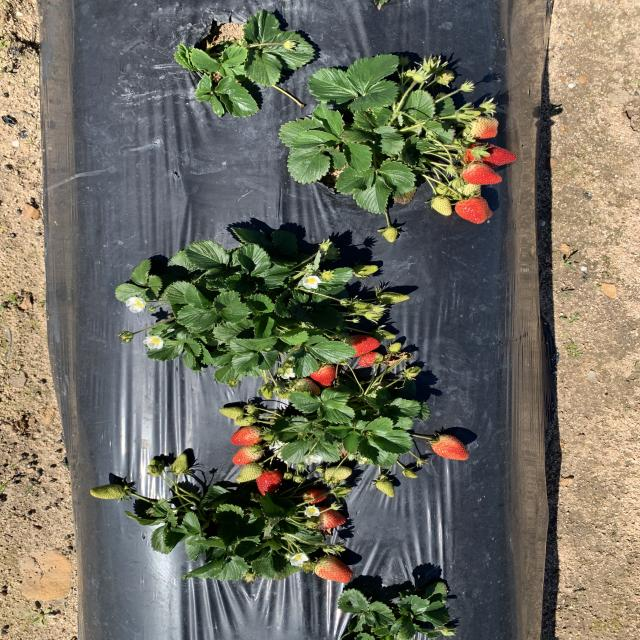unripe: (461, 144, 518, 167), (431, 434, 472, 461), (454, 197, 493, 223), (316, 559, 352, 583), (464, 163, 504, 184), (256, 469, 285, 496), (339, 335, 378, 354), (310, 362, 339, 386), (230, 426, 264, 444), (233, 446, 264, 464), (297, 486, 325, 503)
